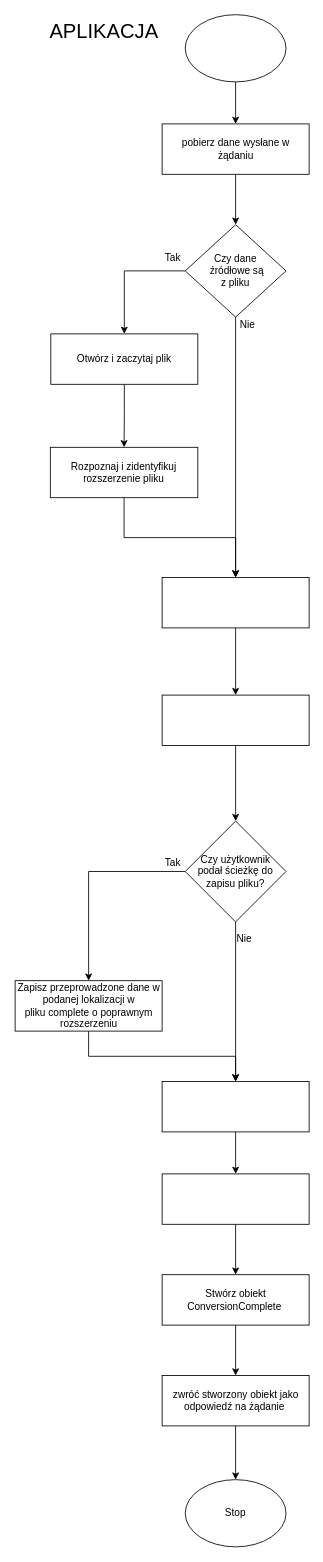
This 323x1562 diagram has some shape labels left out. The centre of each missing label's shape, as x and y in pixels:
"Przeprowadź konwersje obiektów na docelowy wybrany format" goes at [235,720].
"Przeprowadź parsowanie danych źródłowych na obiekty" goes at [235,602].
"Start" goes at [235,48].
"Stwórz obiekt ConversionInfo" goes at [235,1106].
"Zapisz obiekt w bazie danych" goes at [235,1198].
